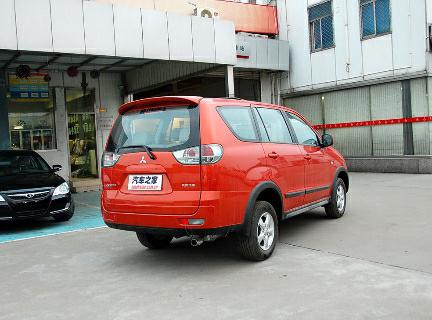三菱-君阁: (97, 93, 354, 269)
